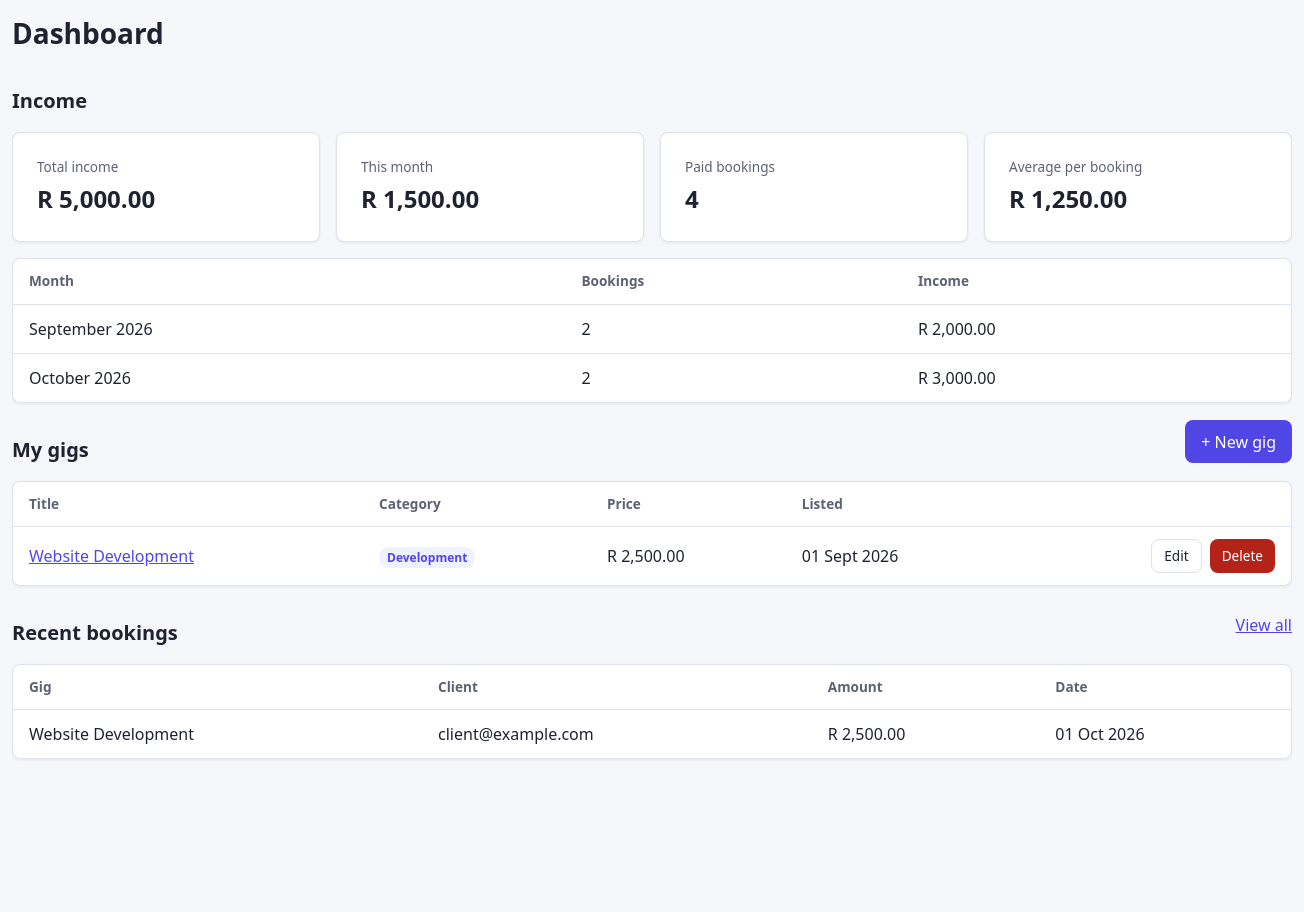
Test case: FreelancerDashboard › deletes a gig after confirmation
The width and height of the screenshot is (1304, 912).
Expected: the link "Website Development" is shown, [29, 545, 194, 567]
Click the button "Delete". click: point(1242, 556)
box: [1210, 539, 1275, 573]
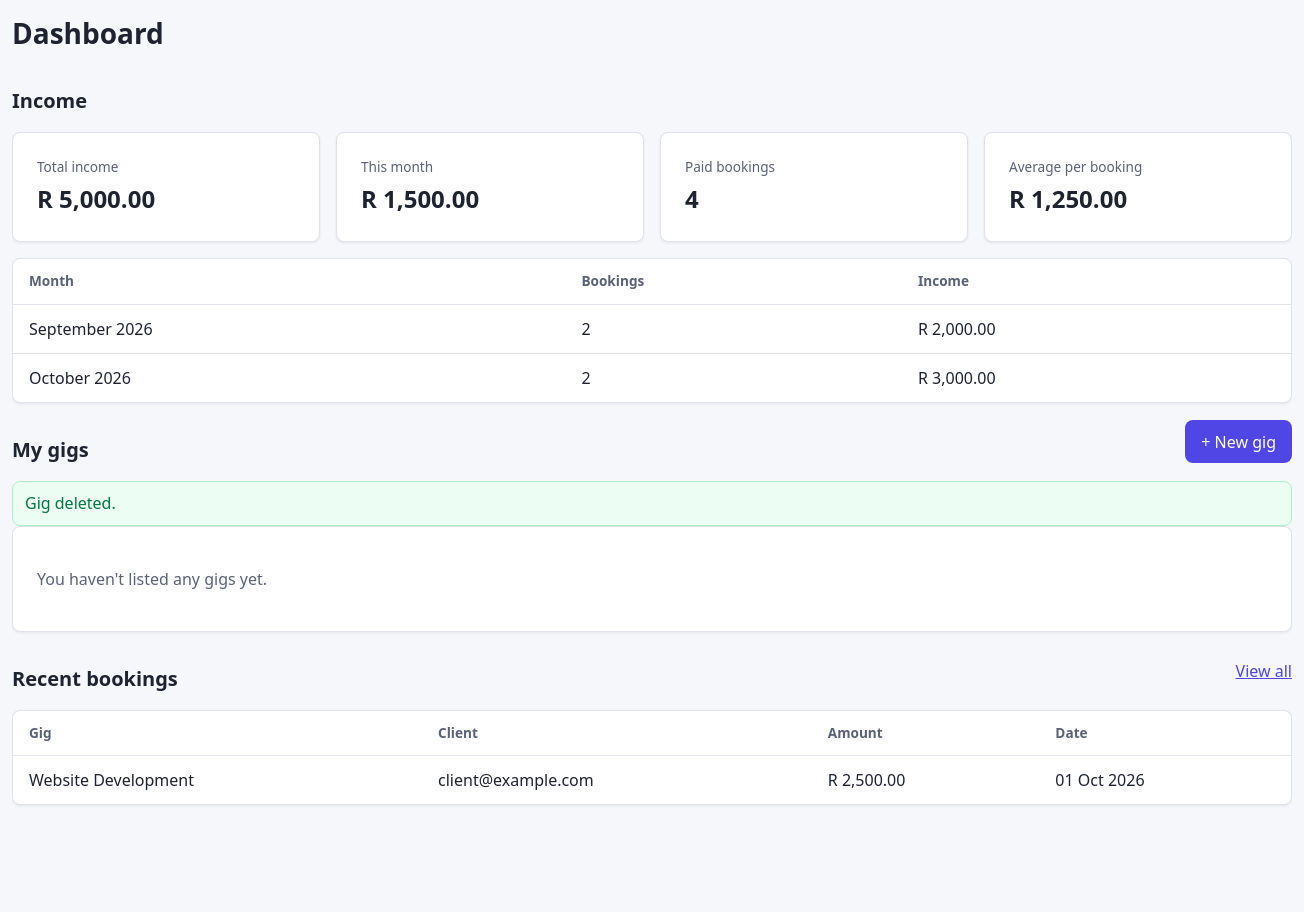
Expected: the text "Website Development" is shown, [13, 756, 422, 804]
Expected: the message reads "Gig deleted.", [25, 492, 116, 514]
